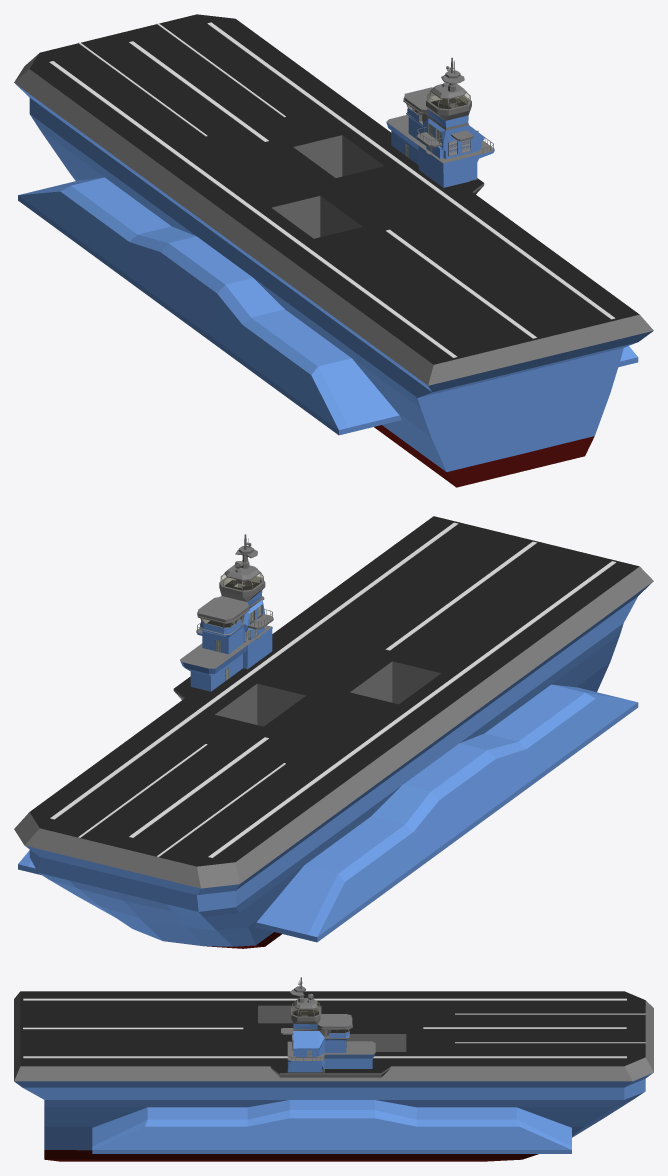
File: CarrierUnified.glb
The picture shows the model from 3 angles, top to bottom: view 1: azimuth 30°, elevation 25°; view 2: azimuth 150°, elevation 25°; view 3: azimuth 270°, elevation 25°; orthographic projection. The views are drawn at different scales.
Parts seen in each view (by area): view 1: Flight deck, main hull, side skirts, superstructure main island, Ramp outer, Elevators; view 2: Flight deck, side skirts, main hull, superstructure main island, Elevators; view 3: Flight deck, main hull, side skirts, superstructure main island, Elevators, superstructure main island.001, Catapult 1, Catapult 2, 00 | starboard service lining.
Part boxes in pixels (x1,y1,x2,y2): Flight deck: [14, 14, 653, 385]; main hull: [16, 84, 652, 487]; side skirts: [18, 177, 638, 435]; superstructure main island: [386, 57, 494, 194]; Ramp outer: [471, 385, 569, 459]; Elevators: [272, 135, 384, 238]; Flight deck: [14, 516, 653, 888]; side skirts: [18, 684, 638, 942]; main hull: [25, 581, 653, 948]; superstructure main island: [173, 534, 273, 699]; Elevators: [215, 661, 440, 726]; Flight deck: [14, 991, 653, 1081]; main hull: [14, 1072, 653, 1161]; side skirts: [92, 1100, 571, 1153]; superstructure main island: [270, 977, 390, 1077]; Elevators: [258, 1005, 406, 1051]; superstructure main island.001: [293, 1024, 319, 1049]; Catapult 1: [455, 1013, 645, 1014]; Catapult 2: [455, 1042, 645, 1043]; 00 | starboard service lining: [288, 1062, 321, 1072].
Bounding box in the file's own units: 60.99 × 53.18 × 151.
